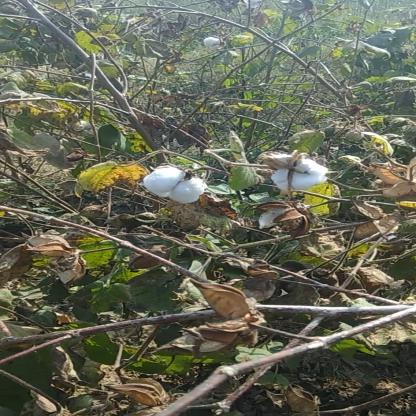cotton_ready: (118, 147, 217, 221), (265, 143, 330, 205)
